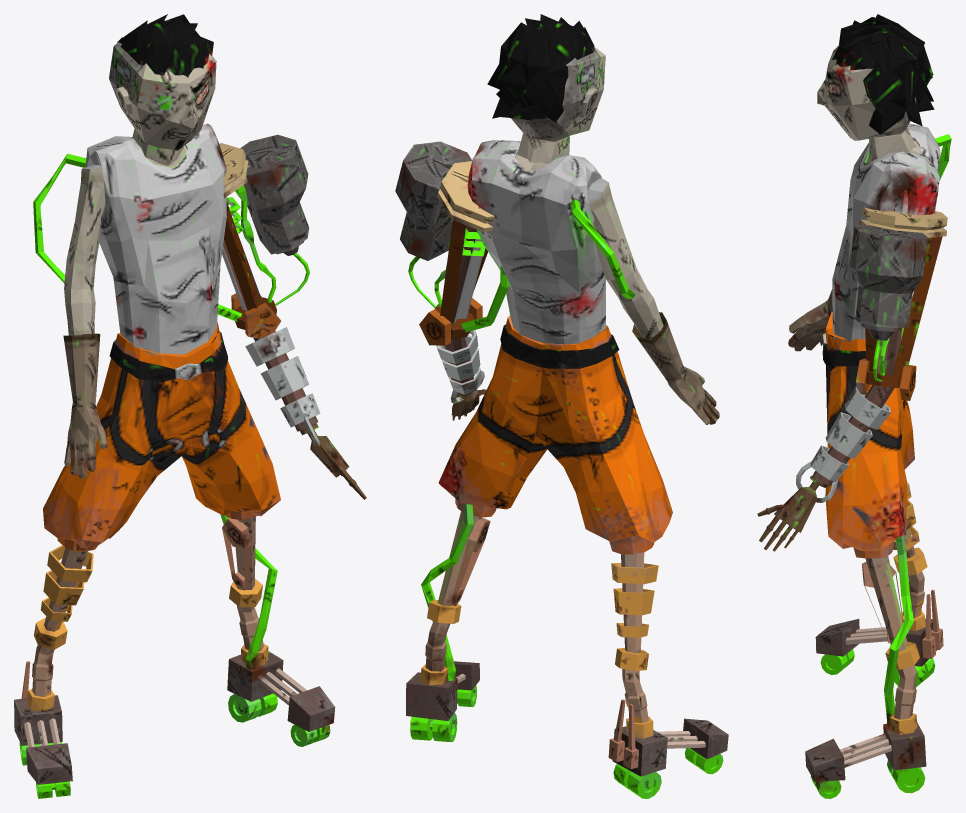
File: CyborgFINALAnimation_000001.obj
The picture shows the model from 3 angles, left to right: view 1: azimuth 30°, elevation 25°; view 2: azimuth 150°, elevation 25°; view 3: azimuth 270°, elevation 25°; orthographic projection. The views are drawn at different scales.
Parts seen in each view (by area): view 1: CyborgMesh_Cube.002; view 2: CyborgMesh_Cube.002; view 3: CyborgMesh_Cube.002.
Part boxes in pixels (left/top/right/bottom): CyborgMesh_Cube.002: left=14, top=14, right=366, bottom=798; CyborgMesh_Cube.002: left=395, top=14, right=728, bottom=798; CyborgMesh_Cube.002: left=757, top=14, right=951, bottom=798.
Bounding box in the file's own units: 4.1 × 9.64 × 2.37.
